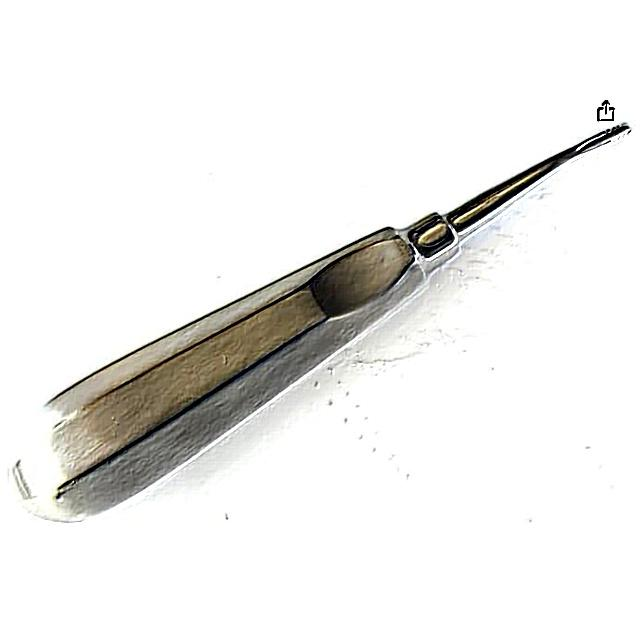botador: (8, 123, 632, 526)
